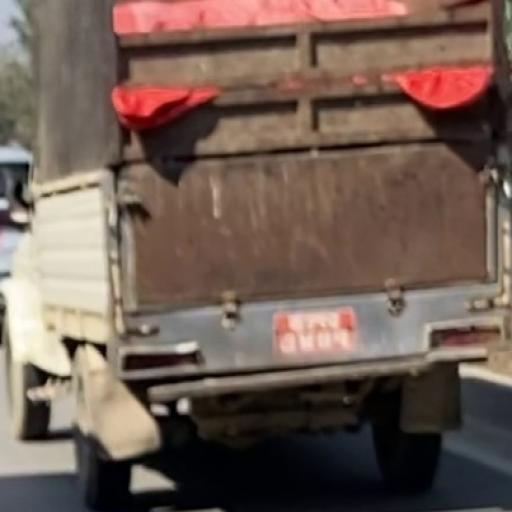license_plate: (268, 305, 362, 360)
